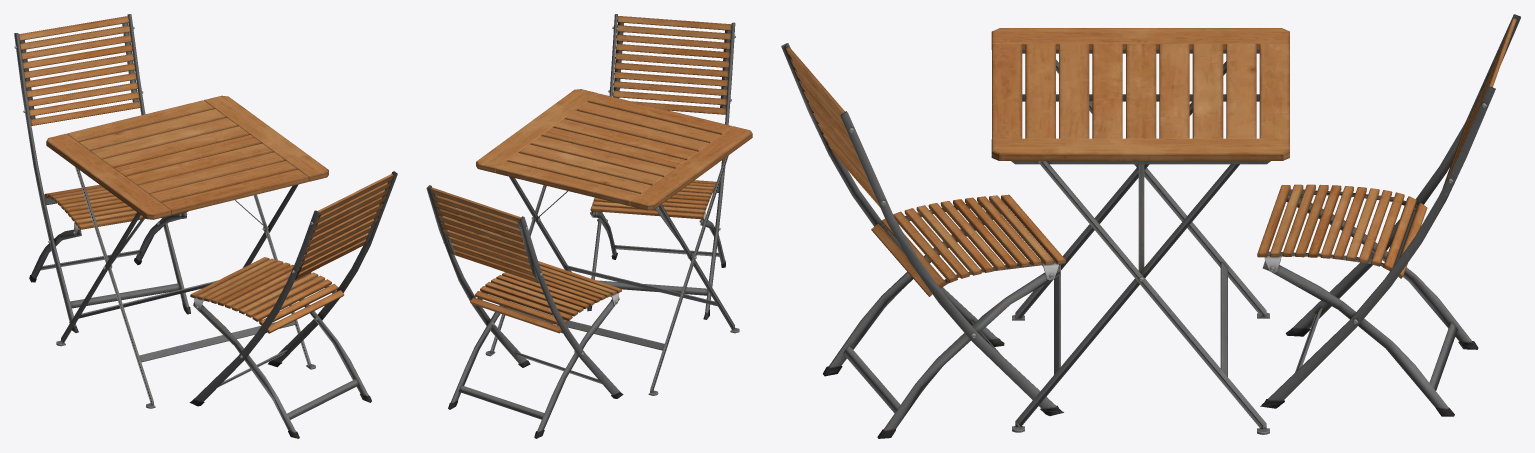
File: outdoor_table_chair_set_01.glb
3 renders of one model, left to right at view 1: azimuth 30°, elevation 25°; view 2: azimuth 150°, elevation 25°; view 3: azimuth 270°, elevation 25°, orthographic. The views are drawn at different scales.
Visible parts, largest first — view 1: outdoor_table_chair_set_01_chair_01, outdoor_table_chair_set_01_table; view 2: outdoor_table_chair_set_01_chair_01, outdoor_table_chair_set_01_table; view 3: outdoor_table_chair_set_01_table, outdoor_table_chair_set_01_chair_01.
Boxes of the visible parts, box(x1,y1,x2,y2) form: outdoor_table_chair_set_01_chair_01: box(14, 14, 397, 438); outdoor_table_chair_set_01_table: box(46, 95, 328, 408); outdoor_table_chair_set_01_chair_01: box(426, 14, 735, 438); outdoor_table_chair_set_01_table: box(476, 89, 752, 395); outdoor_table_chair_set_01_table: box(991, 28, 1289, 434); outdoor_table_chair_set_01_chair_01: box(781, 14, 1520, 438).
Size of the model in its own units: 0.7416 by 0.8579 by 1.72.
2 materials, 2 textured.
